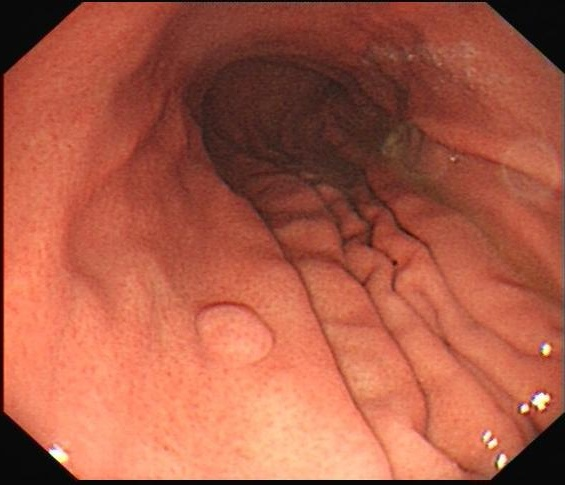Polyp: (194, 287, 282, 371)
